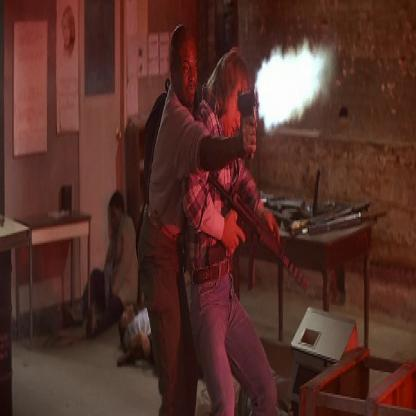Guns: (201, 166, 308, 305), (290, 194, 388, 233), (235, 83, 263, 158)
